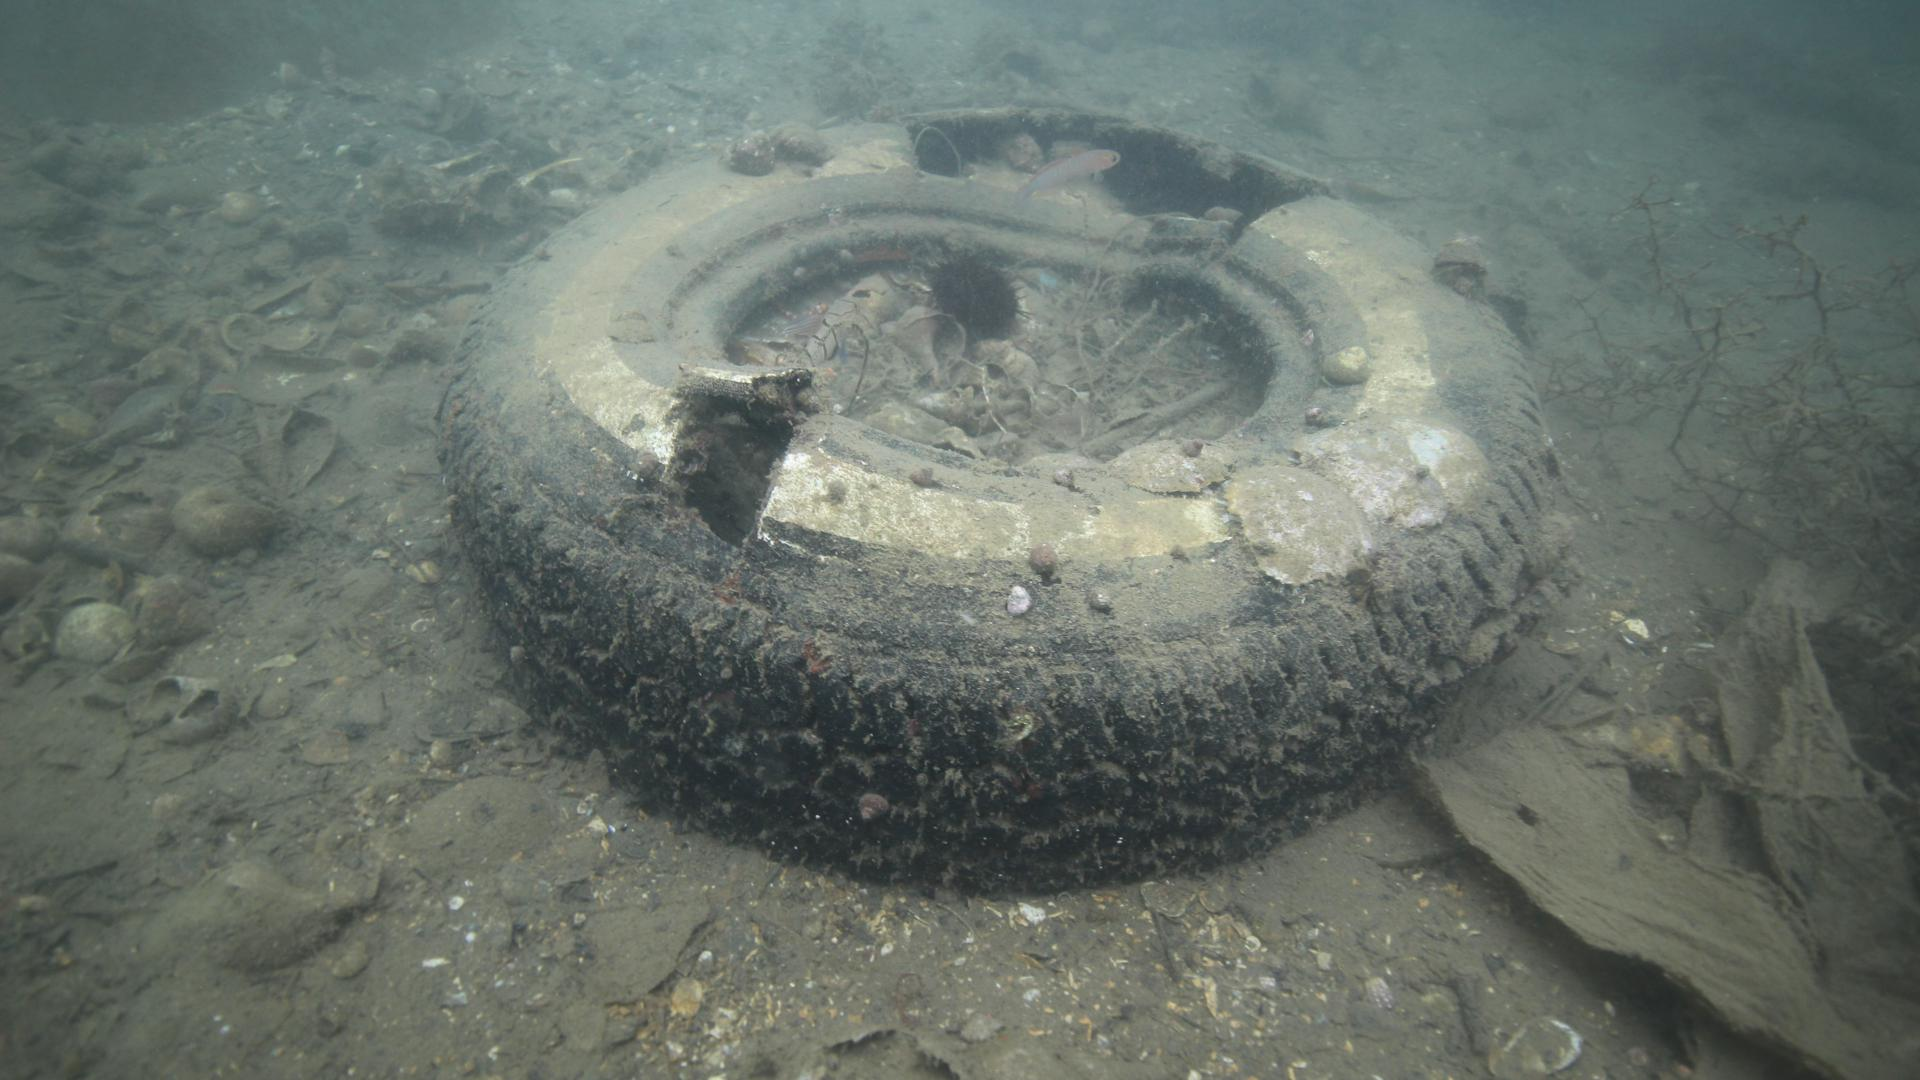tire: (429, 104, 1567, 899)
